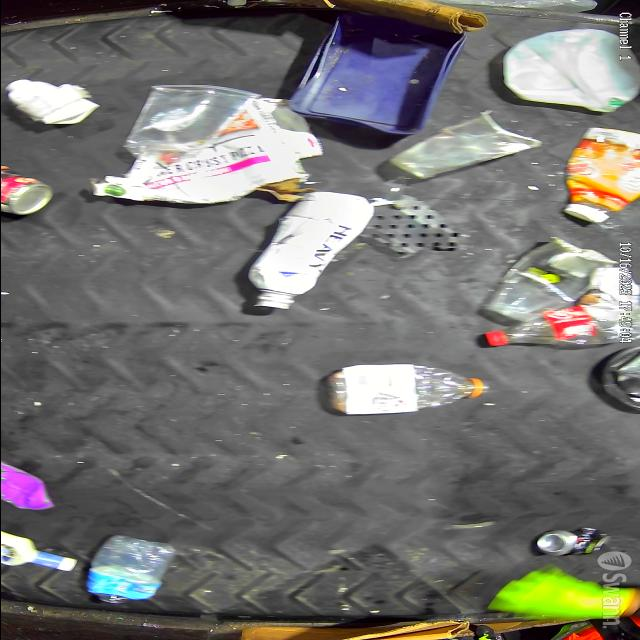can: (538, 524, 608, 558)
milk_jug: (506, 28, 638, 114)
plastic_bottle: (476, 298, 638, 356), (322, 364, 489, 414), (82, 532, 174, 608)
